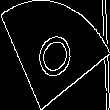O_SW: (30, 24, 80, 86)
